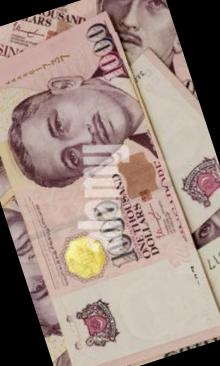1000SingaporeDollar: (0, 18, 217, 366)
